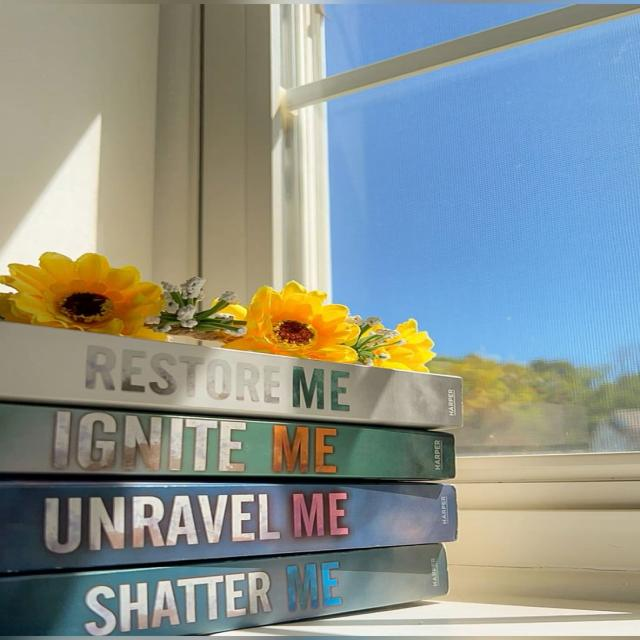book: (0, 322, 462, 427), (0, 481, 455, 574), (0, 544, 448, 635), (0, 404, 453, 479)
flowers: (0, 253, 433, 371)
